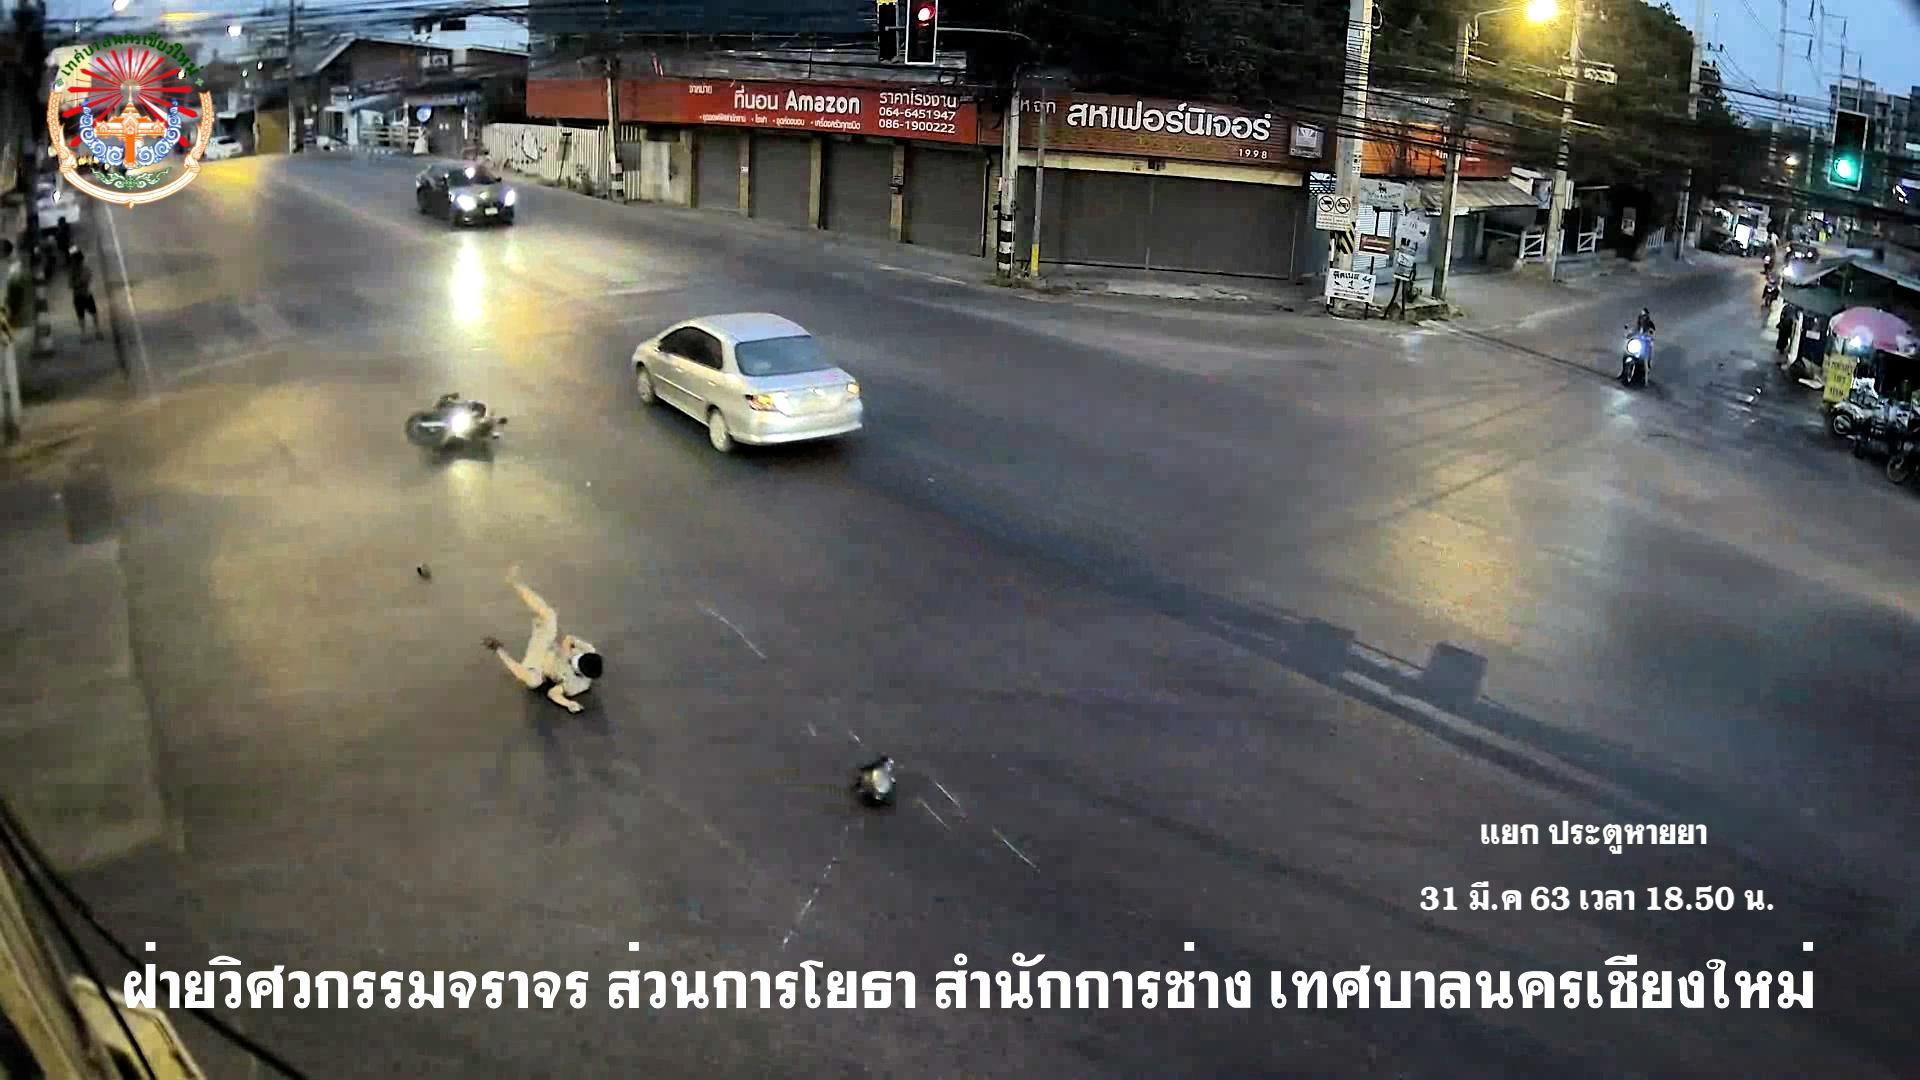accident: (485, 558, 612, 720)
